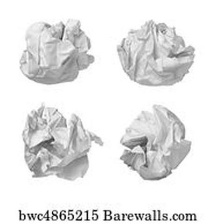book: (12, 98, 105, 186), (111, 97, 205, 183), (12, 14, 106, 93), (113, 14, 209, 90)
